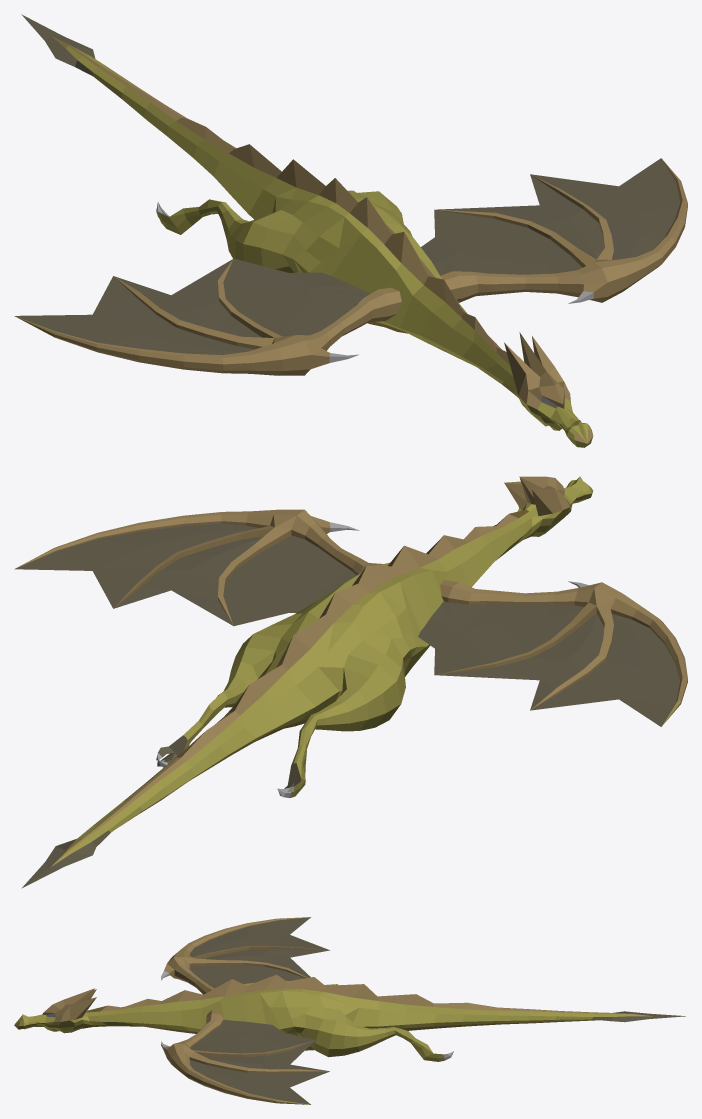
Rendered from low_poly_dragon.glb.
3 views of the same model, one above another, from view 1: azimuth 30°, elevation 25°; view 2: azimuth 150°, elevation 25°; view 3: azimuth 270°, elevation 25° (orthographic). The views are drawn at different scales.
Visible parts, largest first — view 1: Plane; view 2: Plane; view 3: Plane.
Boxes of the visible parts, x1,y1,x2,y2 form: Plane: (14,14,687,447); Plane: (14,476,687,888); Plane: (14,917,685,1104).
Size of the model in its own units: 2980 by 569 by 4519.
